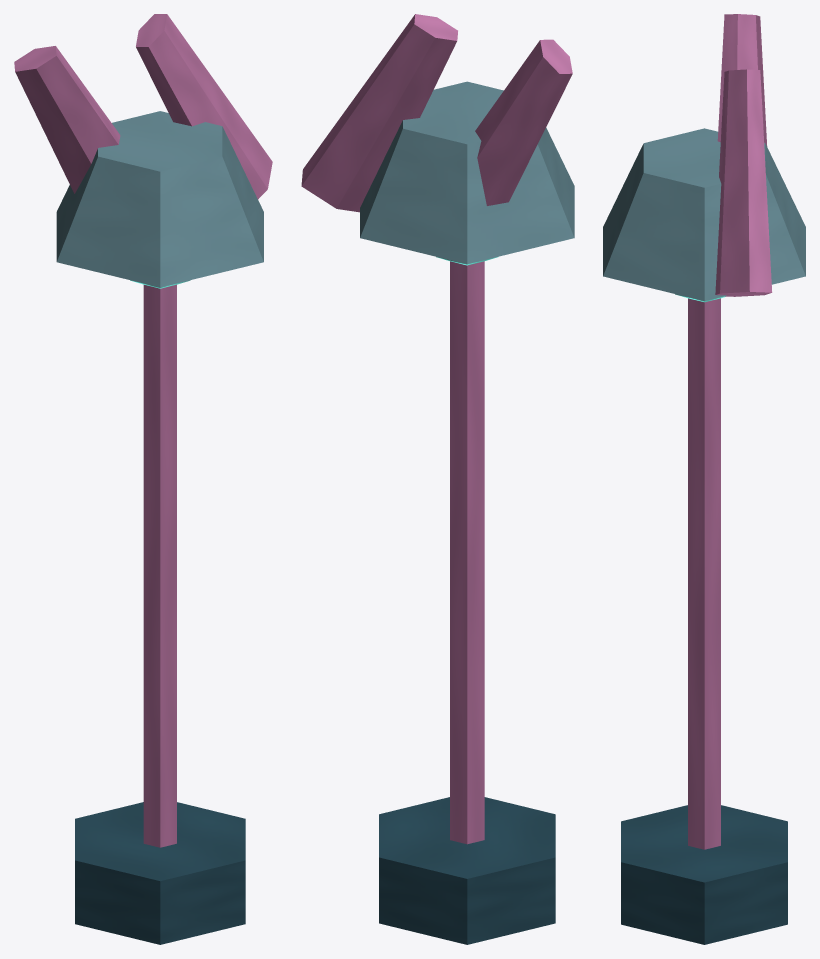
The model's file is atlas100-abyss-util01.lod1.glb.
3 views of the same model, side by side, from view 1: azimuth 30°, elevation 25°; view 2: azimuth 150°, elevation 25°; view 3: azimuth 270°, elevation 25° (orthographic). The views are drawn at different scales.
Parts seen in each view (by area): view 1: atlas100-abyss-util01:part-002, atlas100-abyss-util01:part-000, atlas100-abyss-util01:part-001, atlas100-abyss-util01:part-005, atlas100-abyss-util01:part-006; view 2: atlas100-abyss-util01:part-002, atlas100-abyss-util01:part-000, atlas100-abyss-util01:part-001, atlas100-abyss-util01:part-005, atlas100-abyss-util01:part-006; view 3: atlas100-abyss-util01:part-002, atlas100-abyss-util01:part-000, atlas100-abyss-util01:part-001, atlas100-abyss-util01:part-005, atlas100-abyss-util01:part-006.
Part boxes in pixels (x1,y1,x2,y2): atlas100-abyss-util01:part-002: (56, 111, 263, 287); atlas100-abyss-util01:part-000: (75, 802, 245, 944); atlas100-abyss-util01:part-001: (143, 284, 176, 847); atlas100-abyss-util01:part-005: (136, 14, 272, 199); atlas100-abyss-util01:part-006: (14, 46, 120, 193); atlas100-abyss-util01:part-002: (360, 81, 574, 264); atlas100-abyss-util01:part-000: (379, 797, 555, 944); atlas100-abyss-util01:part-001: (450, 261, 484, 844); atlas100-abyss-util01:part-005: (301, 14, 457, 212); atlas100-abyss-util01:part-006: (475, 39, 572, 205); atlas100-abyss-util01:part-002: (603, 128, 805, 300); atlas100-abyss-util01:part-000: (621, 805, 787, 944); atlas100-abyss-util01:part-001: (688, 298, 720, 849); atlas100-abyss-util01:part-005: (715, 69, 772, 296); atlas100-abyss-util01:part-006: (717, 14, 767, 146).
Bounding box in the file's own units: 0.9093 × 2.91 × 0.6295.
Materials: 4 (4 with a texture image).
